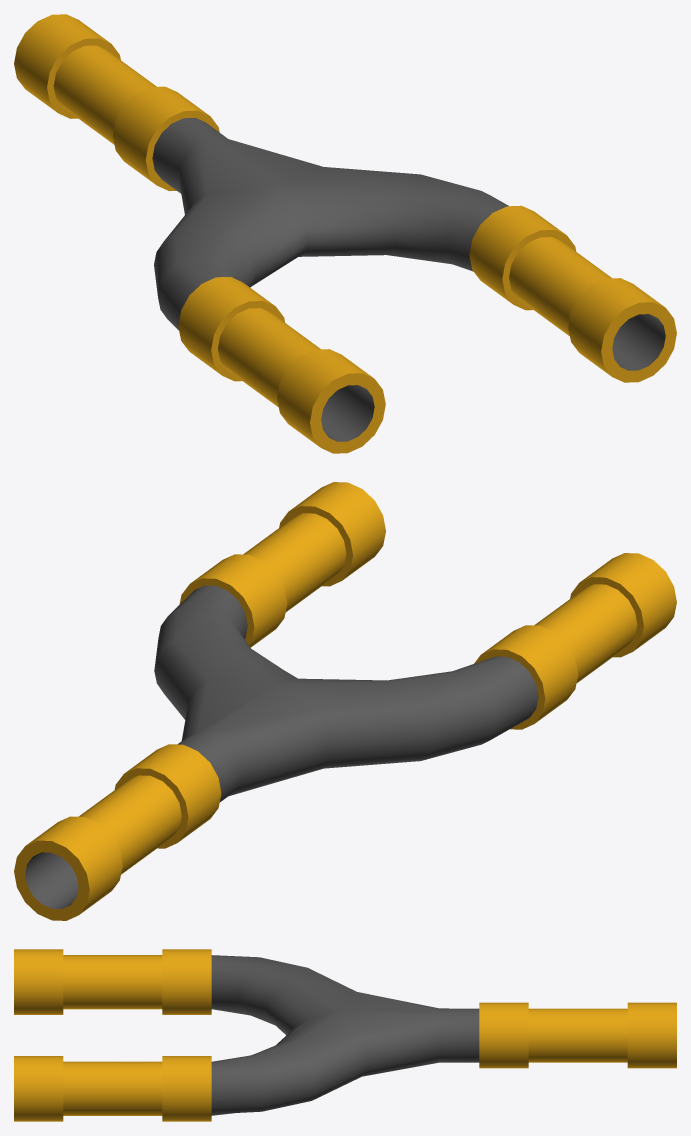
File: Hose_U-Junction.fbx
3 views of the same model, one above another, from view 1: azimuth 30°, elevation 25°; view 2: azimuth 150°, elevation 25°; view 3: azimuth 270°, elevation 25° (orthographic). The views are drawn at different scales.
Visible parts, largest first — view 1: Hose_U-Junction; view 2: Hose_U-Junction; view 3: Hose_U-Junction.
Part boxes in pixels (x1,y1,x2,y2): Hose_U-Junction: (14, 14, 676, 453); Hose_U-Junction: (14, 482, 676, 920); Hose_U-Junction: (14, 949, 676, 1121).
Size of the model in its own units: 10.06 by 2.08 by 20.96.
